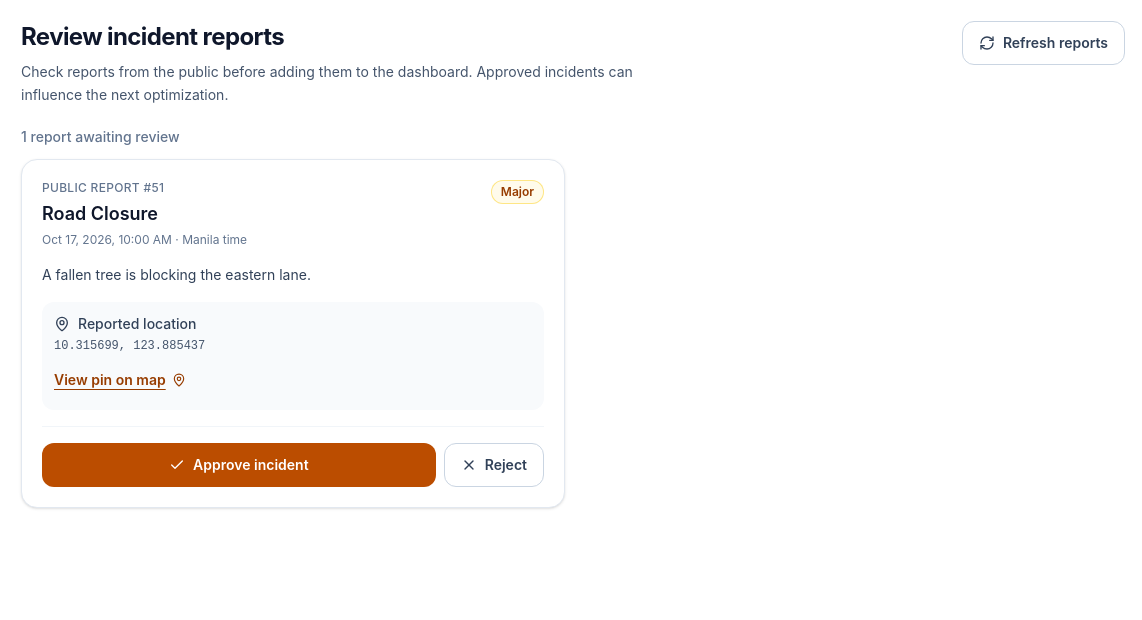
Test: confirms rejection, preserves reports after errors, and lets staff retry
Click the button with aria-label "Reject report #51". click: [494, 465]
box: [444,443,544,487]
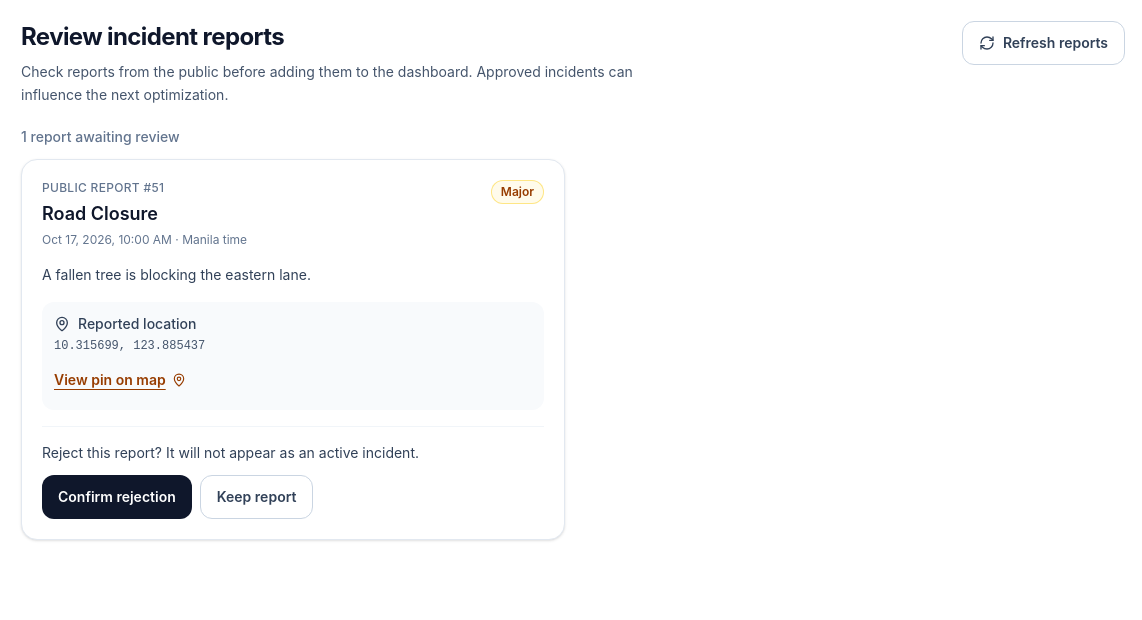
Click the button "Keep report". click: [257, 497]
box: [200,475,314,519]
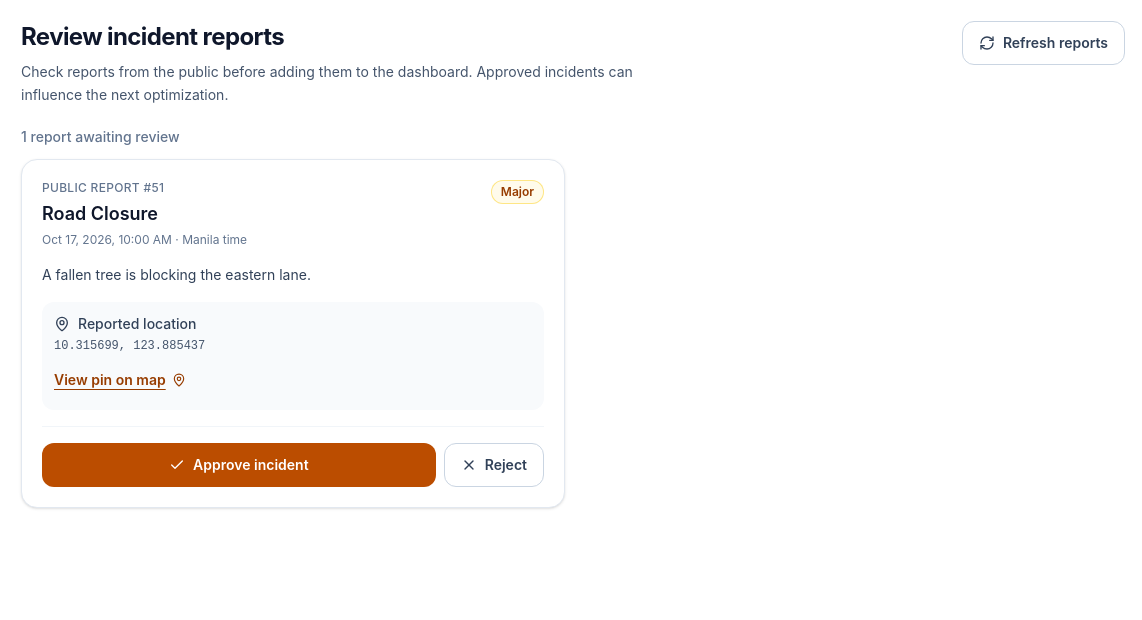
Click the button with aria-label "Reject report #51". click: [494, 465]
box: [444,443,544,487]
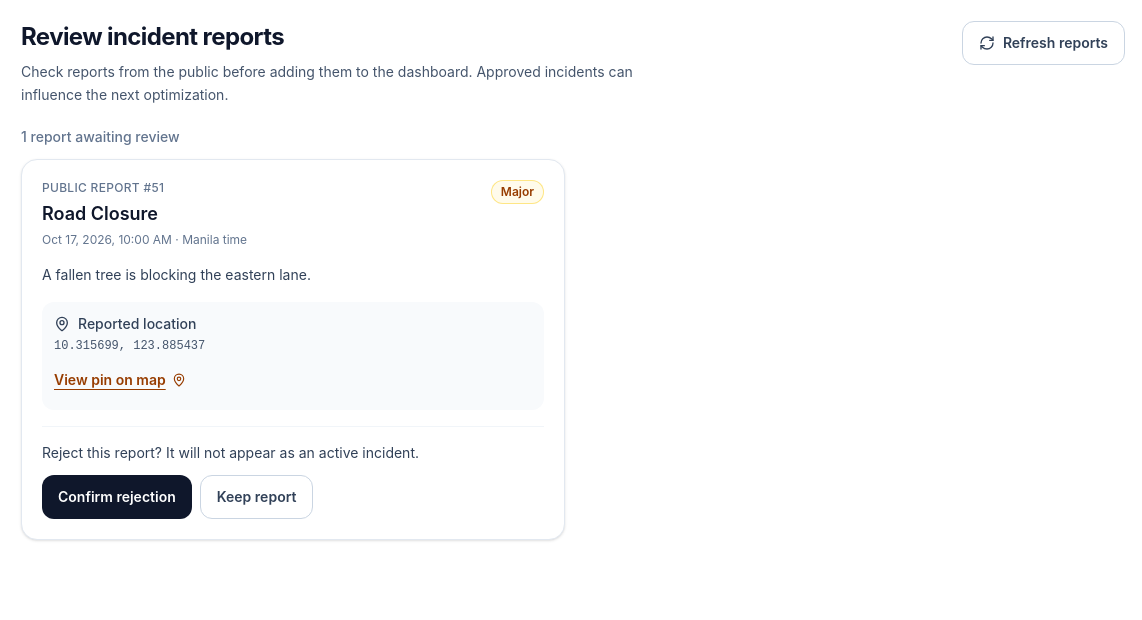
Click the button "Confirm rejection". click: [117, 497]
box: [42,475,192,519]
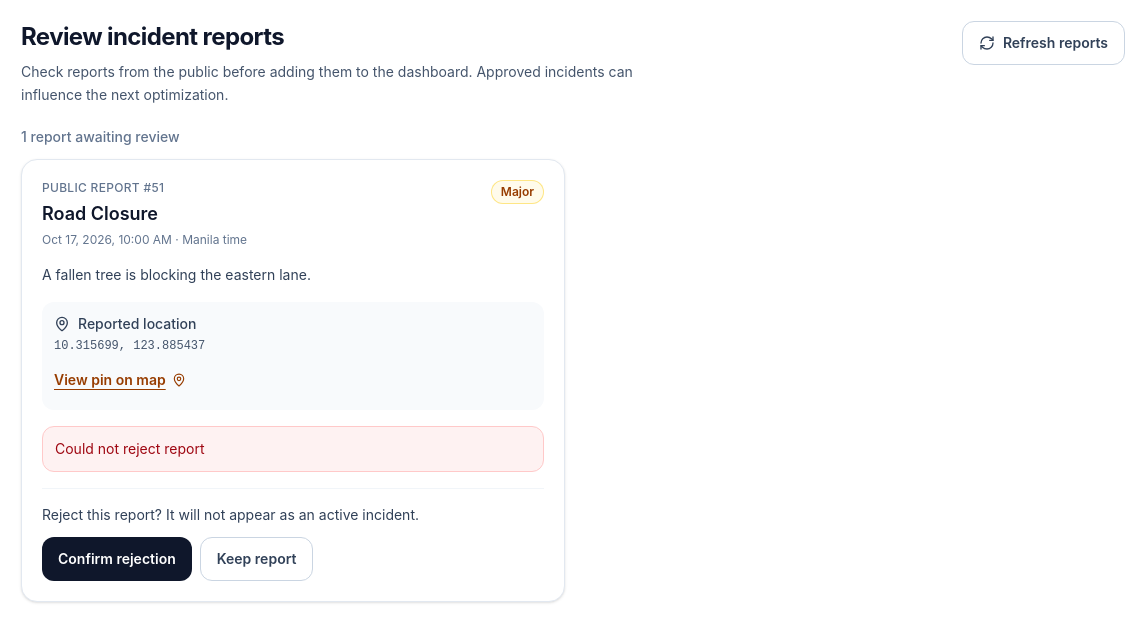
Expected: the text "A fallen tree is blocking the eastern lane." is shown, [42,266,311,282]
Expected: the message reads "Could not reject report", [55,440,204,457]
Click the button "Confirm rejection". click: [117, 559]
box: [42,537,192,581]
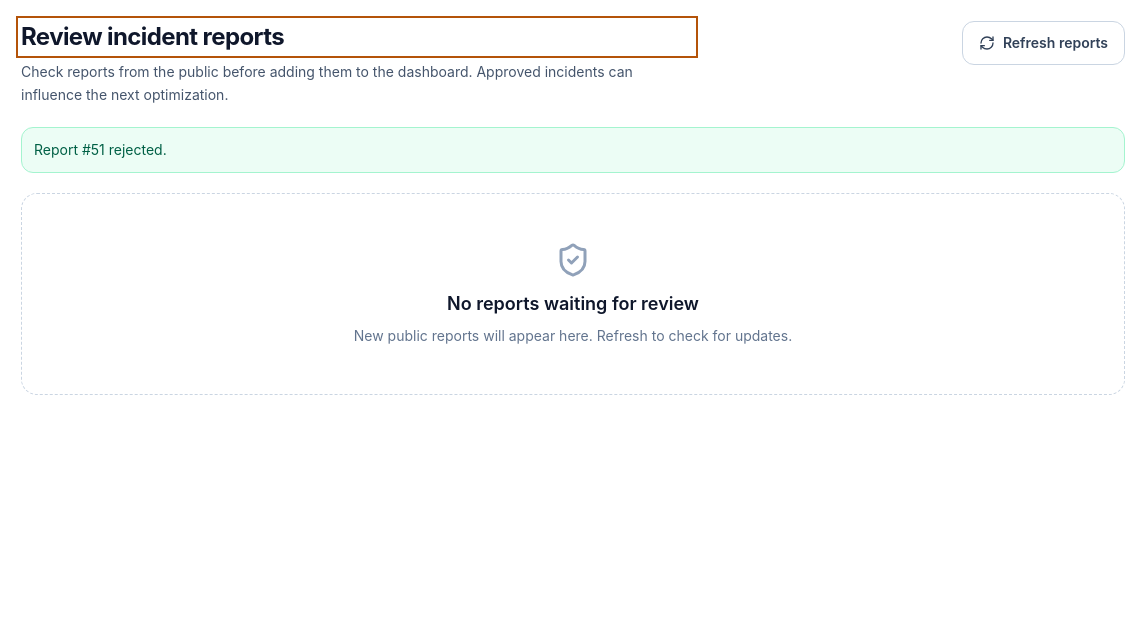
Expected: the text "Report #51 rejected." is shown, [21,126,1125,172]
